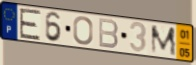3: (129, 21, 150, 55)
6: (44, 11, 63, 44)
B: (97, 17, 119, 50)
E: (18, 8, 42, 42)
M: (149, 25, 178, 58)
O: (72, 16, 94, 47)
